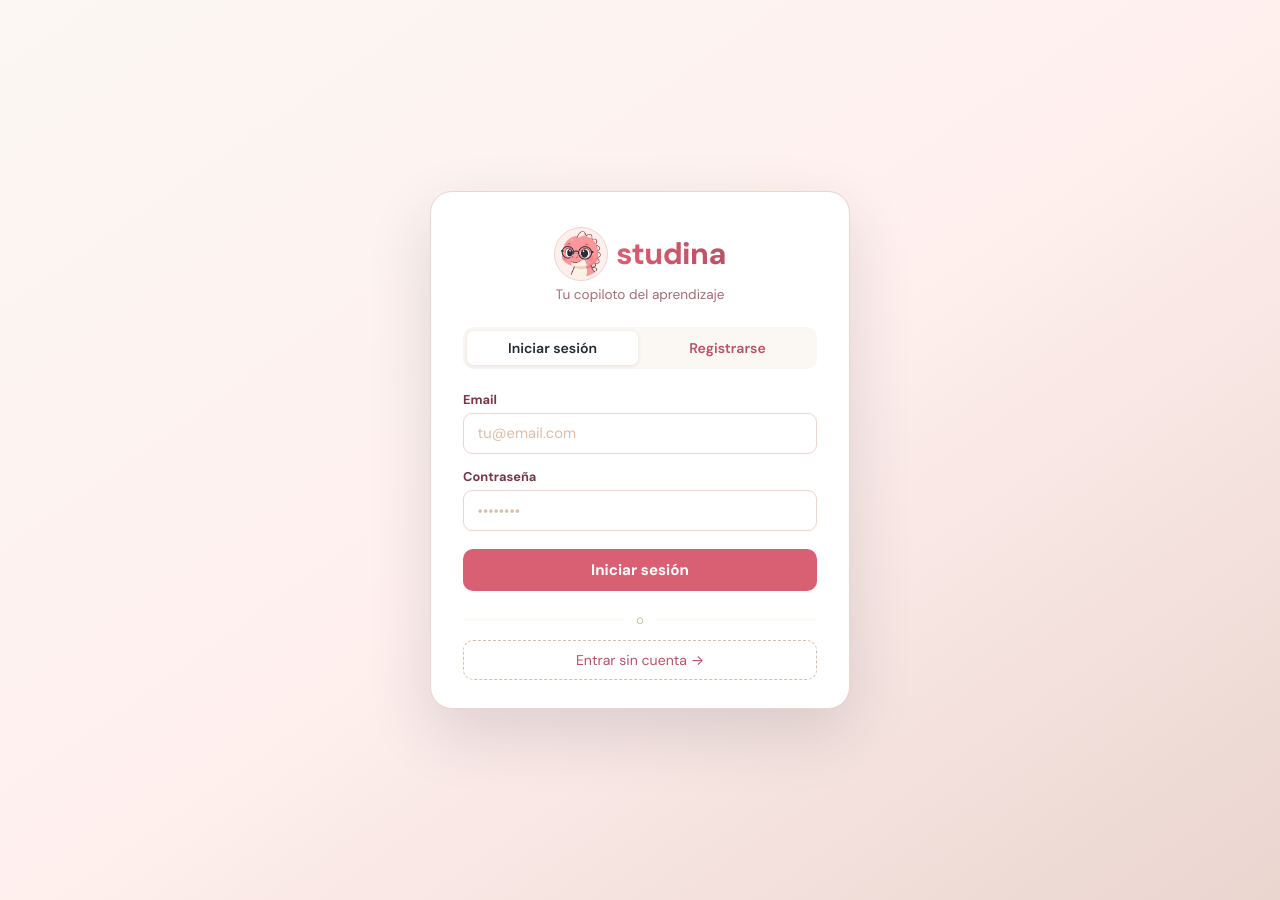
Scenario: App › abre directo la pantalla que pide la URL
Type "usuario-a@gmail.com" into the field with placeholder "tu@email.com".
click(640, 433); type("usuario-a@gmail.com")  # box [463,413,817,454]
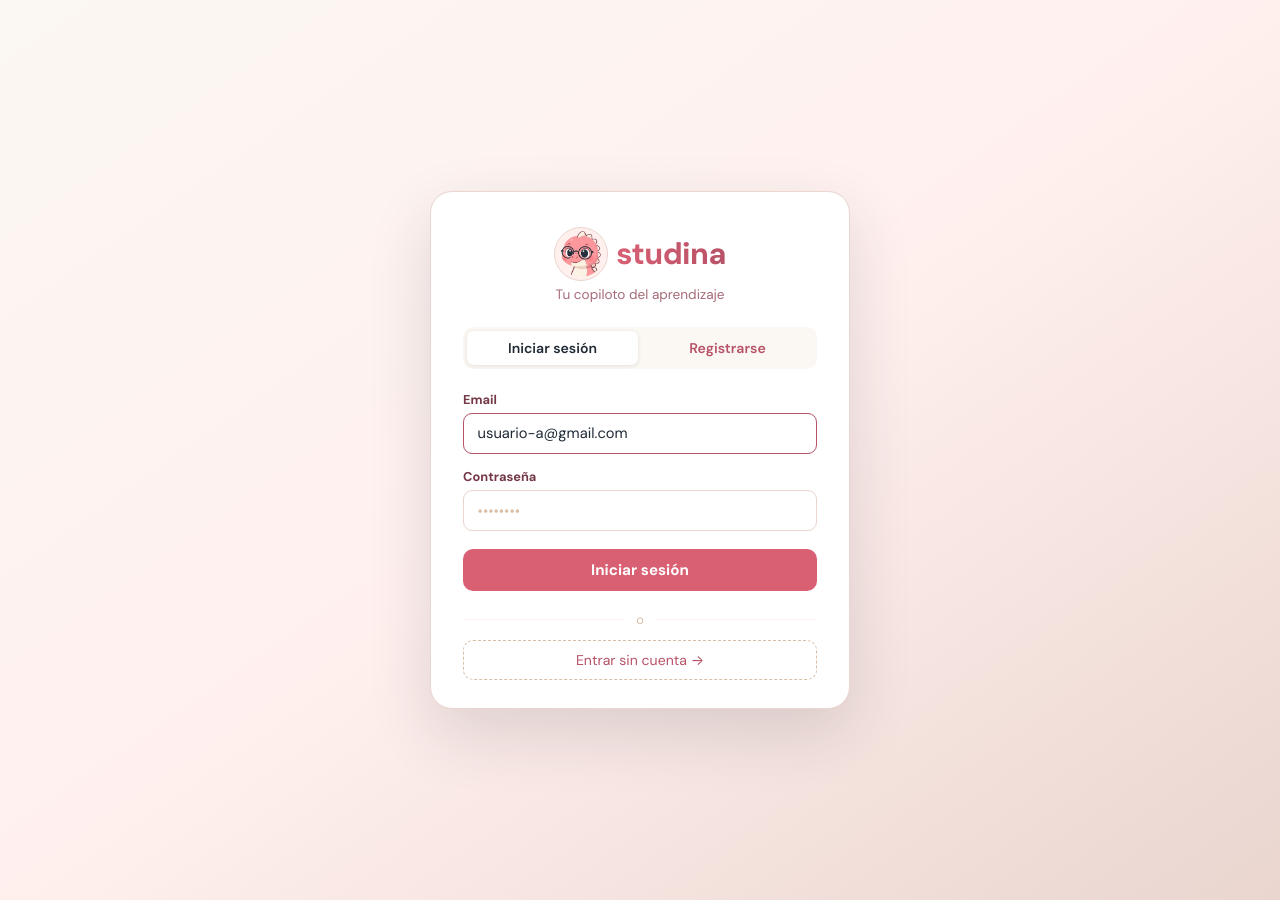
Type "clave-a" into the password field with placeholder "••••••••".
click(640, 511); type("clave-a")  # box [463,490,817,531]
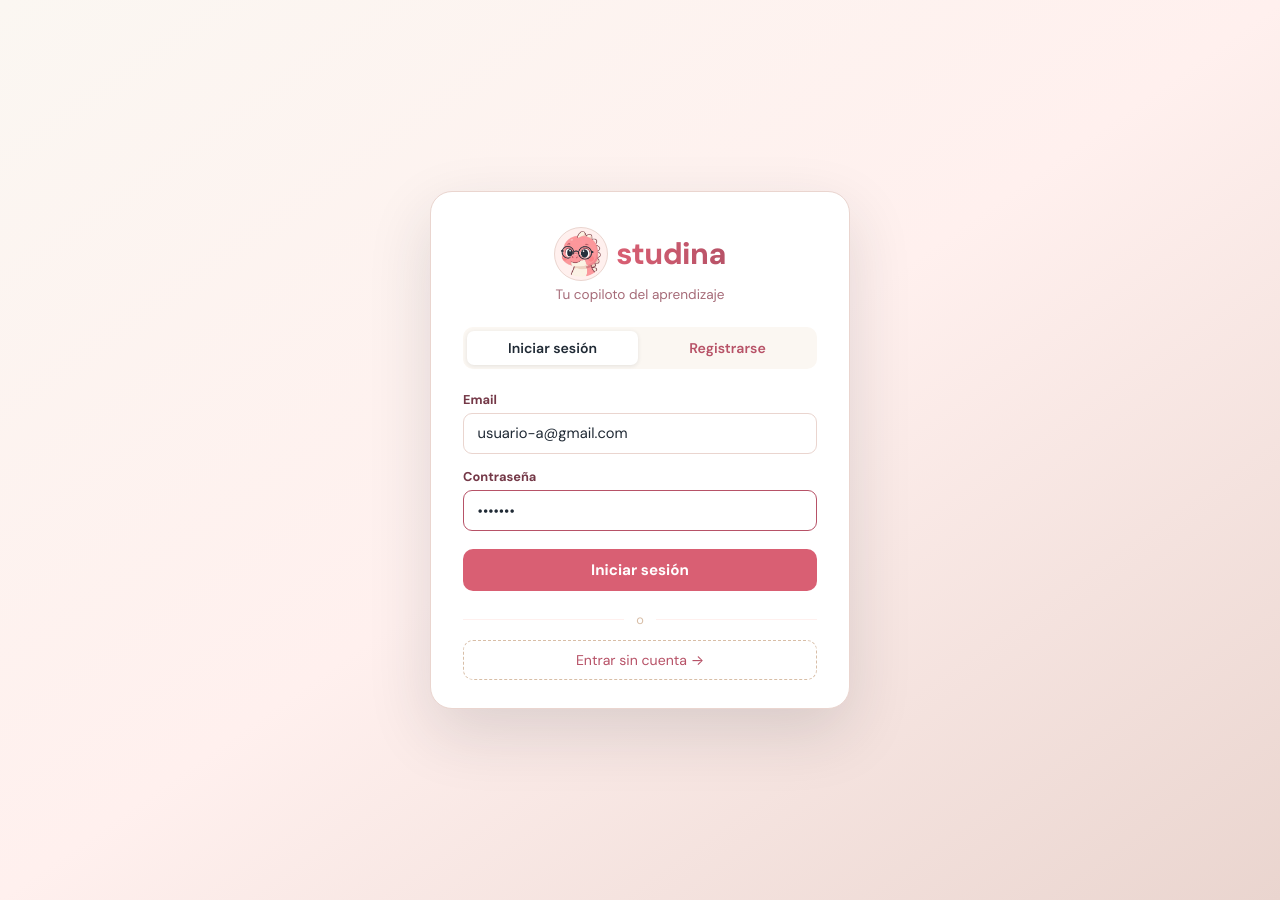
Click the button "Iniciar sesión" below "Contraseña".
click(640, 570)  # box [463,549,817,591]
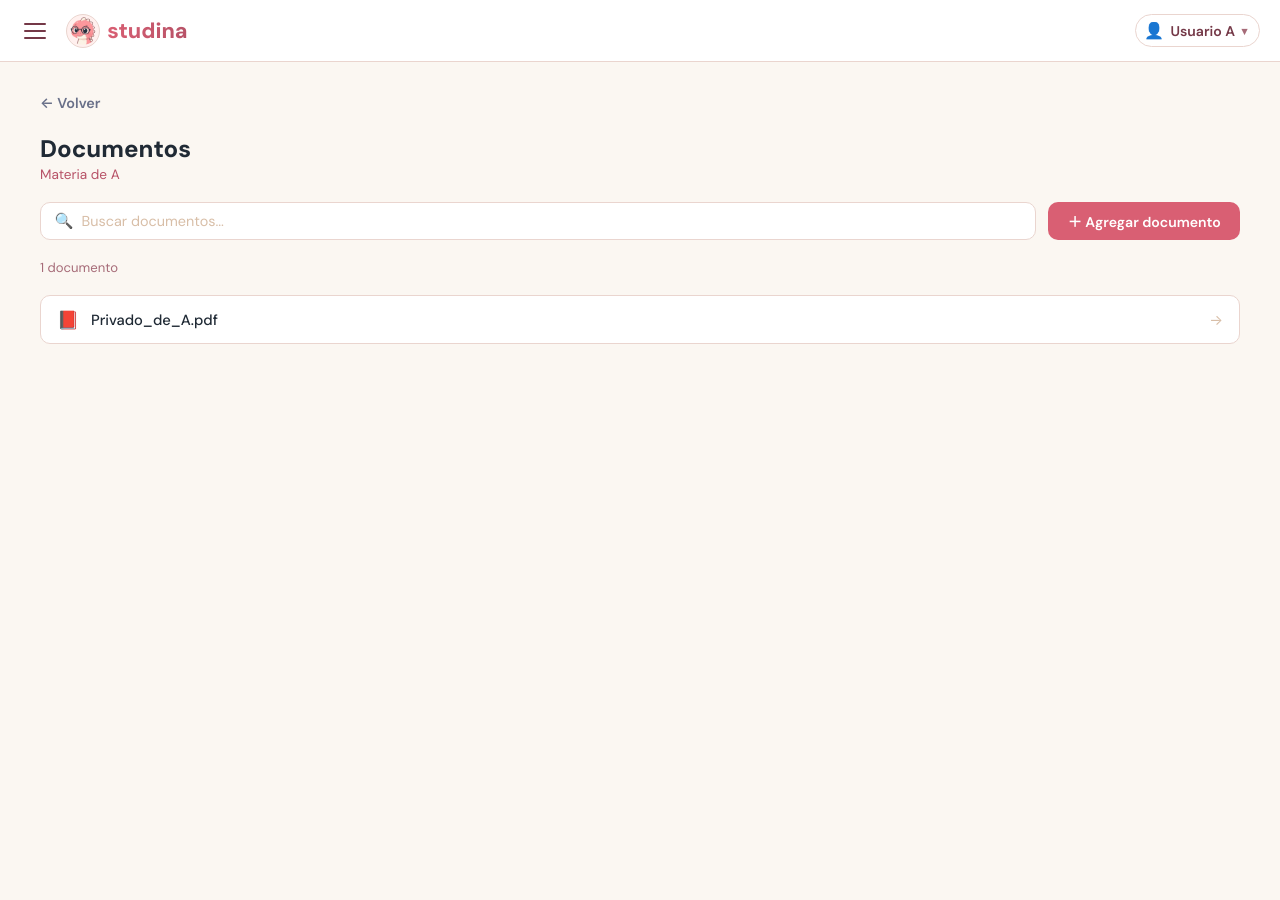
expect the text "Usuario A" is shown: met, box [1170,22,1235,40]
expect the text "Privado_de_A.pdf" is shown: met, box [91,310,218,330]
